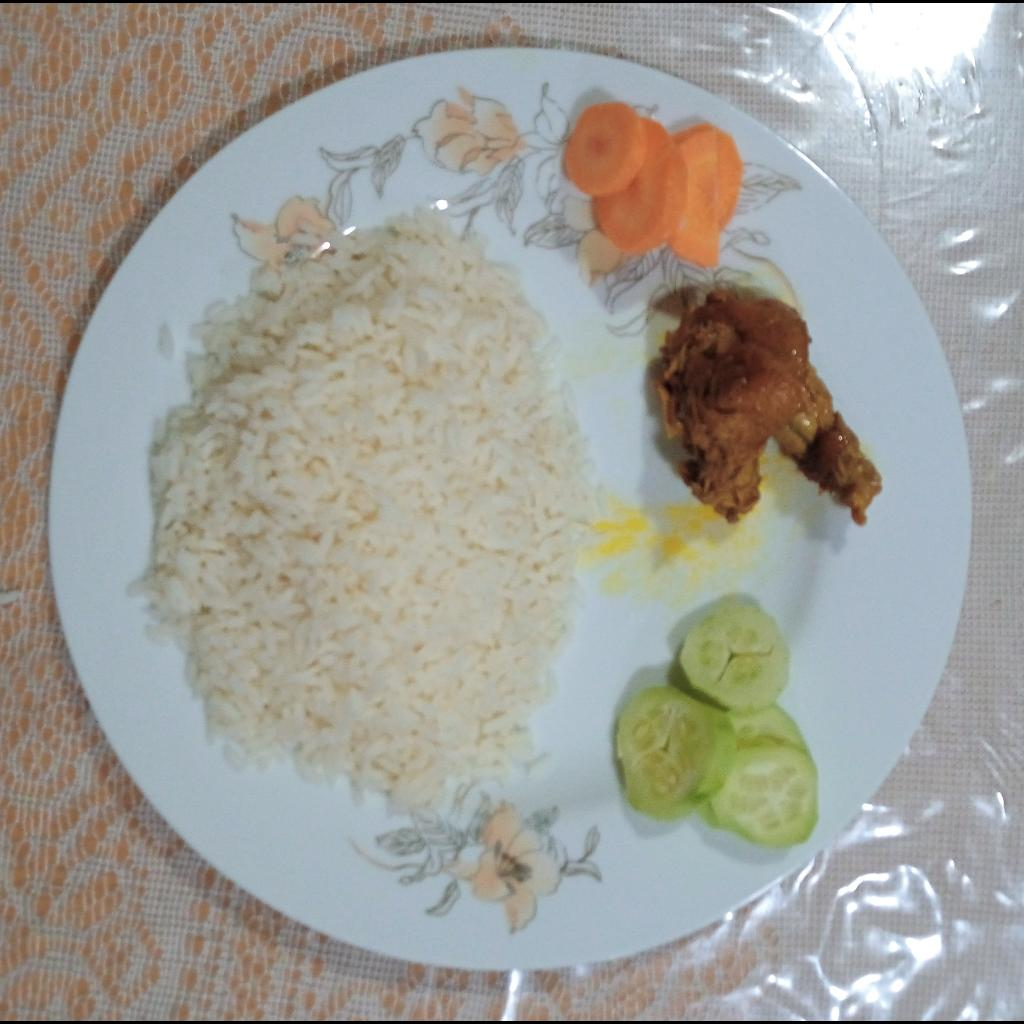carrot: (560, 103, 742, 268)
chicken: (651, 288, 884, 526)
cucumber: (613, 603, 824, 847)
rice: (132, 212, 627, 822)
